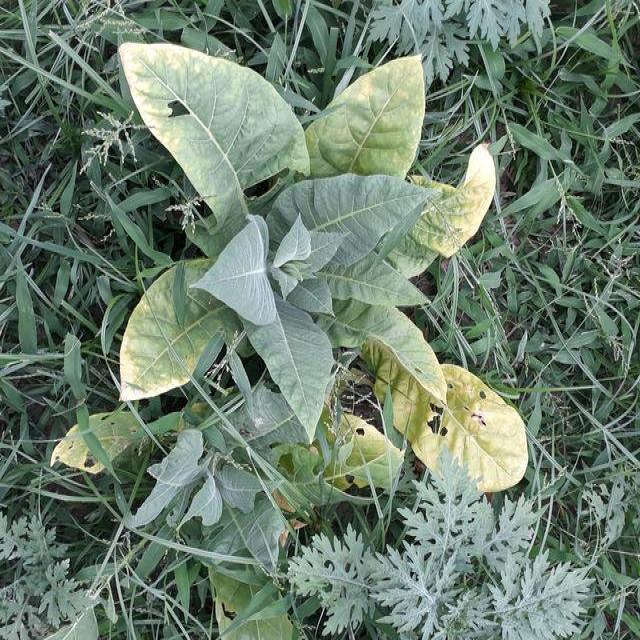crop: (117, 43, 521, 490)
